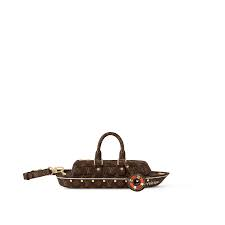boat: (18, 155, 171, 192)
